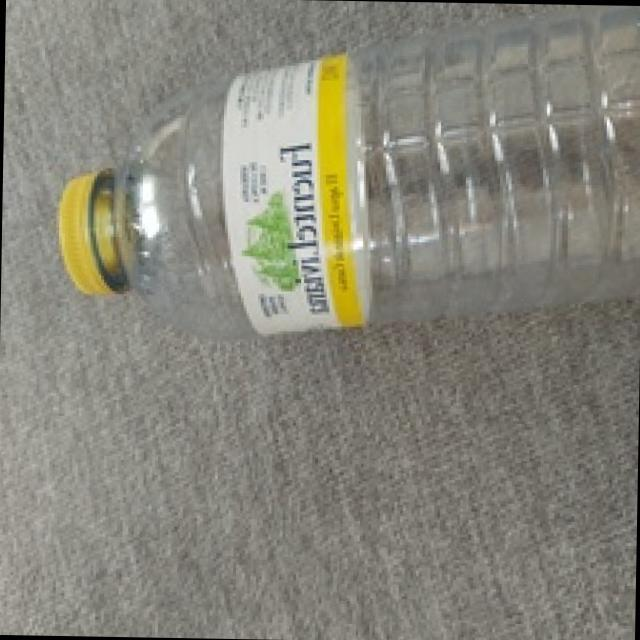good: (64, 15, 640, 349)
